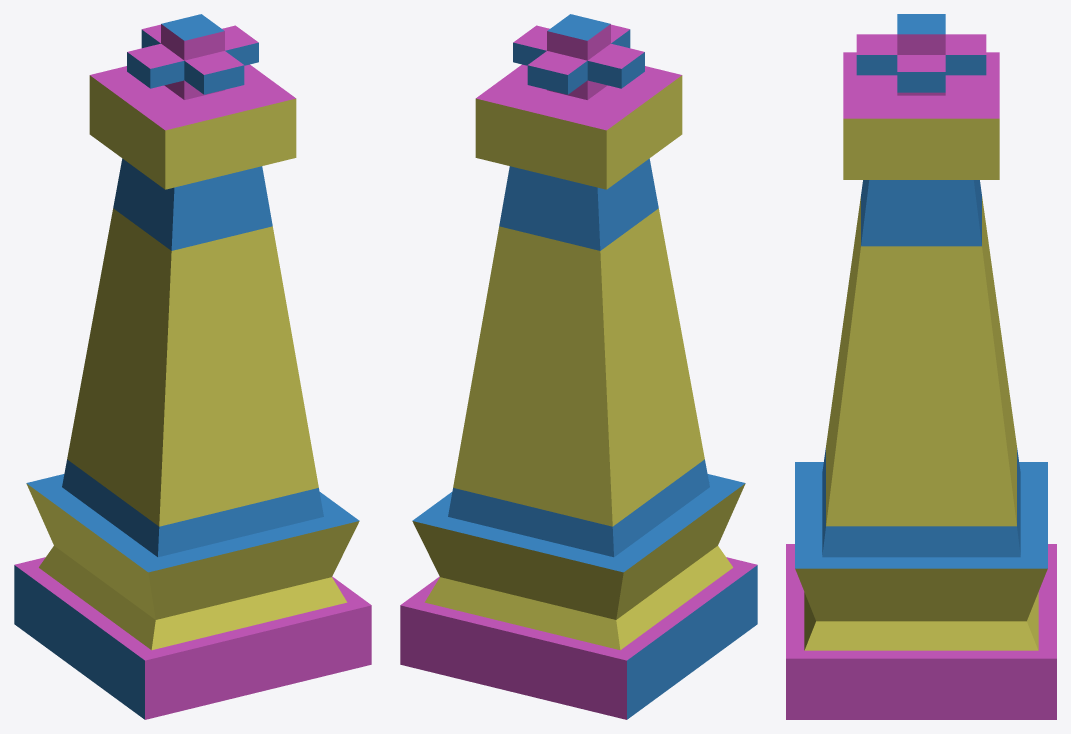
Rendered from columna1-1.fbx.
The picture shows the model from 3 angles, left to right: view 1: azimuth 30°, elevation 25°; view 2: azimuth 150°, elevation 25°; view 3: azimuth 270°, elevation 25°; orthographic projection. The views are drawn at different scales.
Parts seen in each view (by area): view 1: Cube; view 2: Cube; view 3: Cube.
Boxes of the visible parts, x1,y1,x2,y2 form: Cube: (14, 14, 371, 719); Cube: (400, 14, 757, 719); Cube: (786, 14, 1056, 719).
Bounding box in the file's own units: 200 × 520 × 200.
